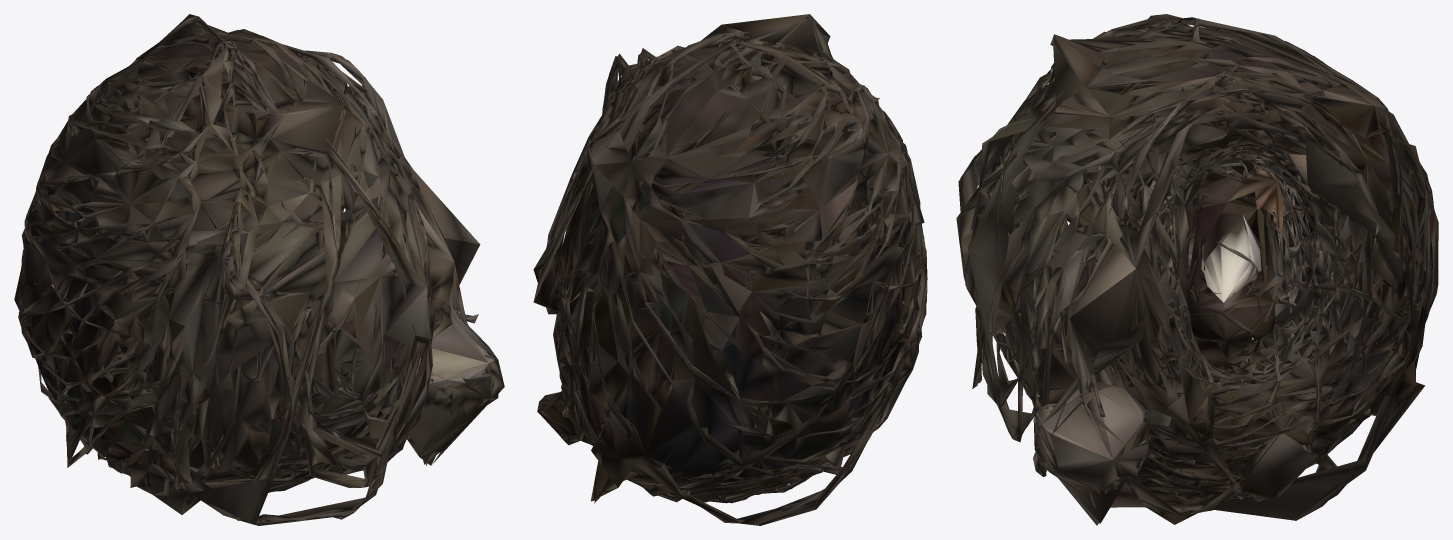
The model's file is prop_net_bundle_01.glb.
The picture shows the model from 3 angles, left to right: view 1: azimuth 30°, elevation 25°; view 2: azimuth 150°, elevation 25°; view 3: azimuth 270°, elevation 25°; orthographic projection. The views are drawn at different scales.
Parts seen in each view (by area): view 1: geometry_0; view 2: geometry_0; view 3: geometry_0.
Part boxes in pixels (box(x1,y1,x2,y2)): geometry_0: box(14, 14, 504, 525); geometry_0: box(533, 14, 927, 525); geometry_0: box(956, 14, 1438, 525).
Bounding box in the file's own units: 0.9054 × 1 × 0.952.
1 material, 1 textured.
